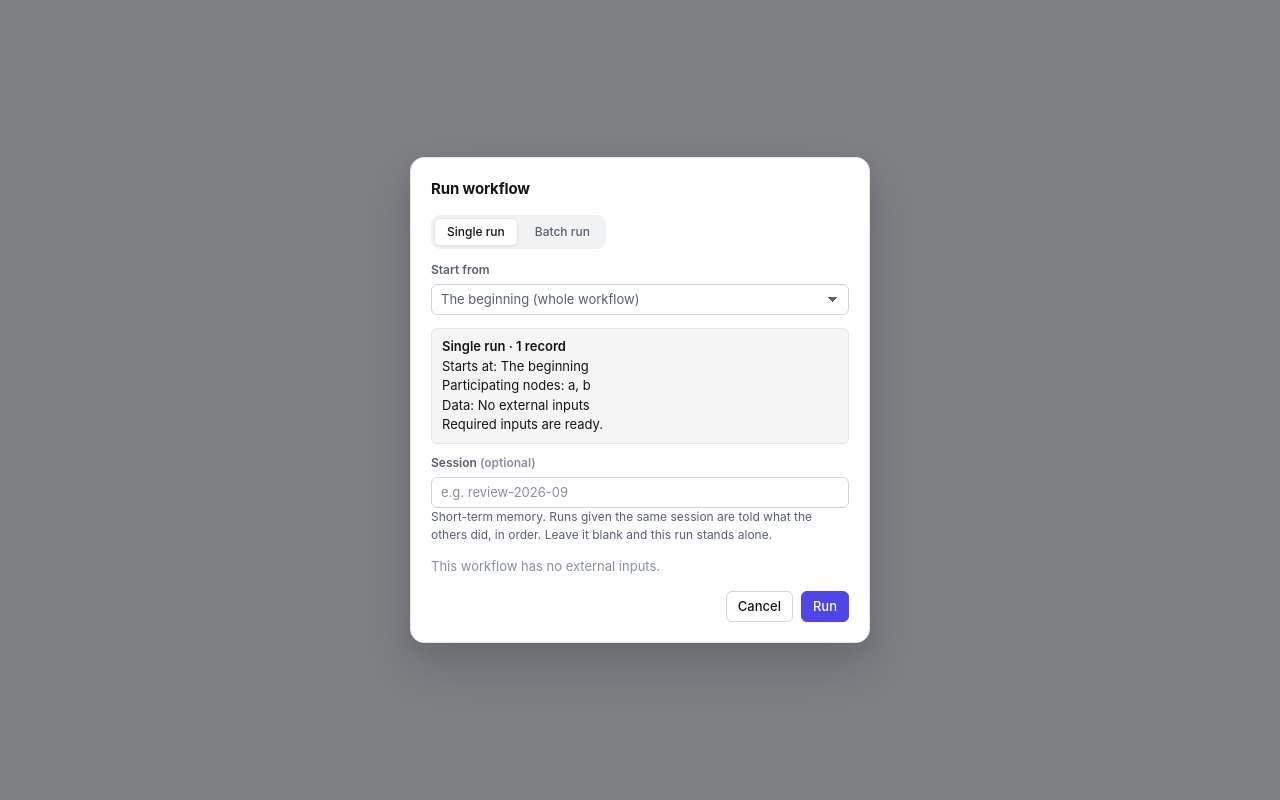
Scenario: how big this batch is › shows the run count before you start
Click the button "Batch run" at (562, 232), box x1=522 y1=218 x2=603 y2=246
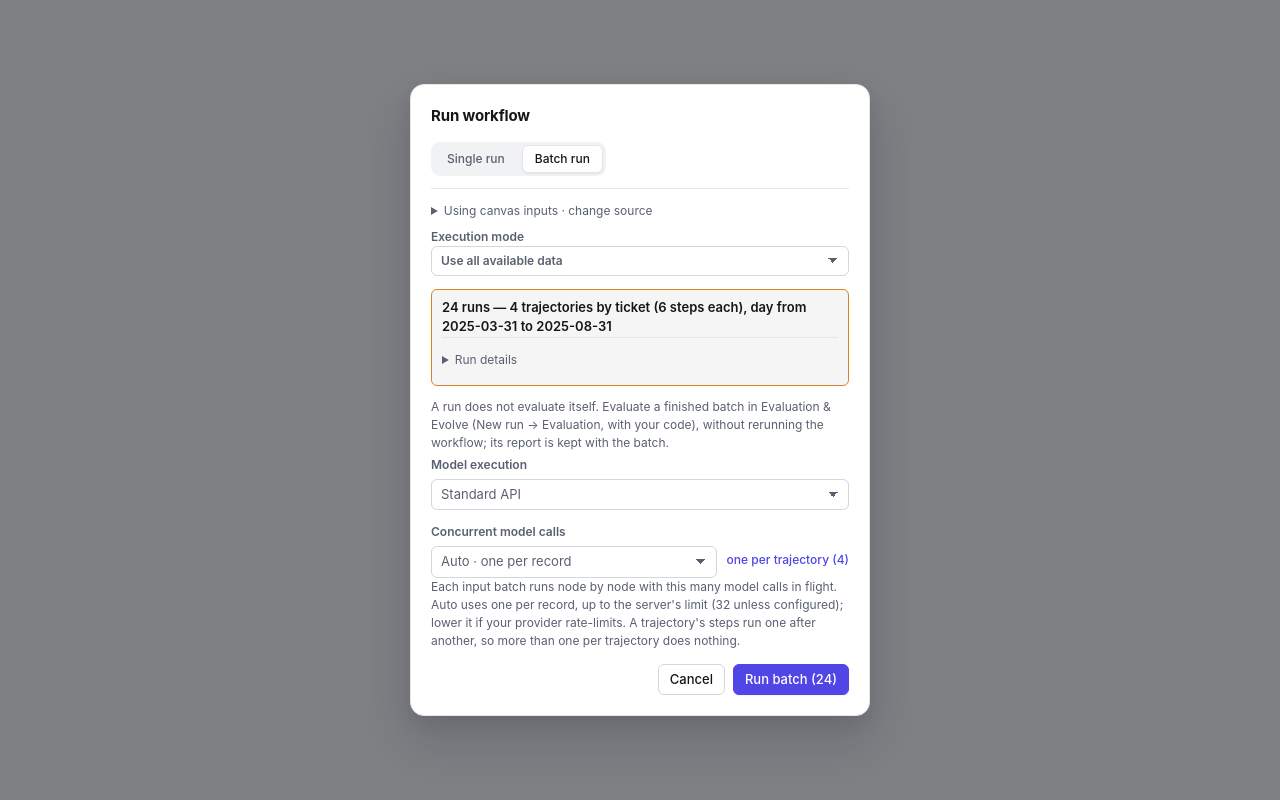
Check: the text "24 runs" is shown, box x1=442 y1=298 x2=806 y2=334
